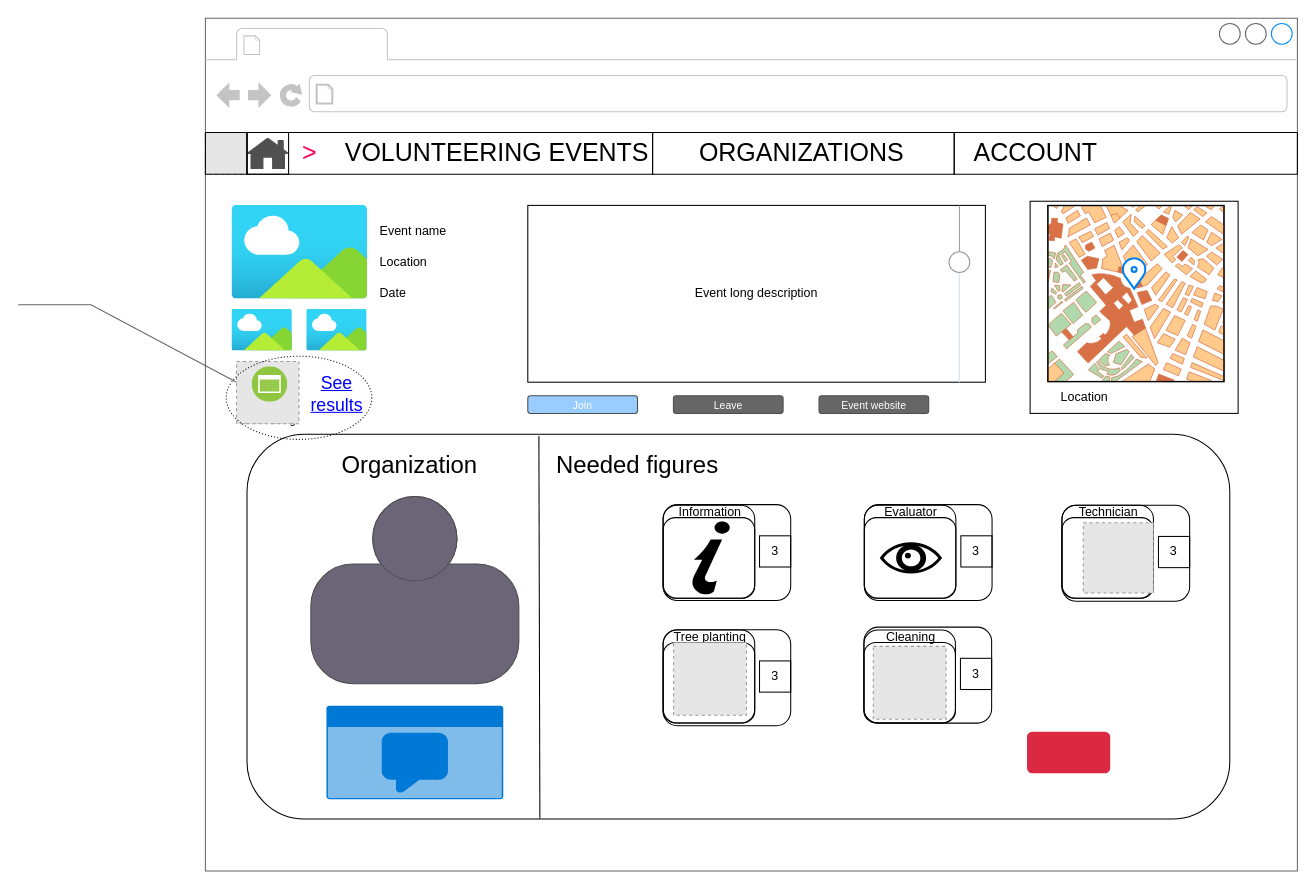
This 1316x889 diagram has some shape labels left out. Grey dashed boxes stand in for pictures. Each missing label, with the centre of its shape:
"After the event" goes at pixel 127 329.
"Concacts" goes at pixel 414 752.
"https://www.vistasmartcity.com/events/?eventid=1" goes at pixel 470 94.
"Organizer name [Organization] Description of organization objective." goes at pixel 414 590.
"Report problem" goes at pixel 1068 752.
"vista - event" goes at pixel 324 44.
